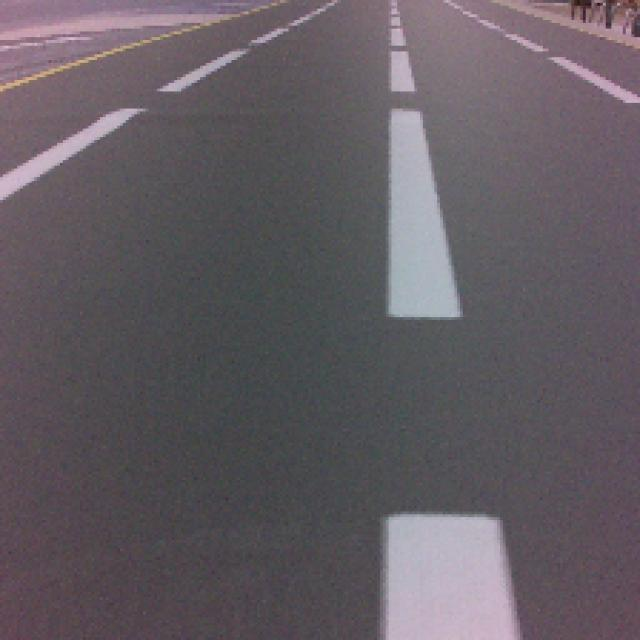Road: (0, 513, 385, 640)
